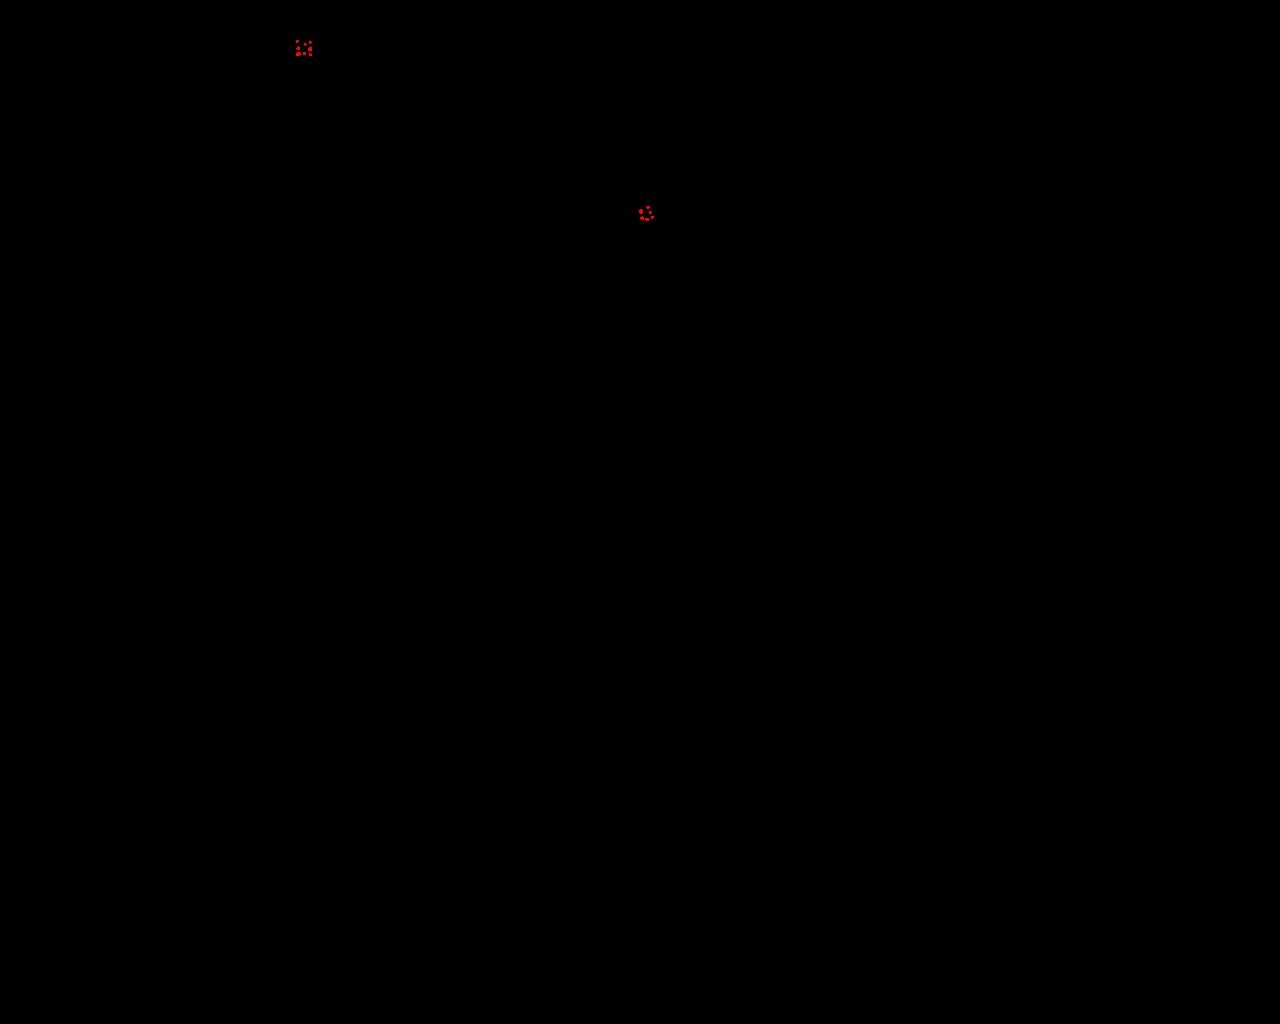Target: (296, 52, 301, 56), (296, 46, 300, 50), (308, 47, 312, 51), (639, 216, 644, 220), (639, 209, 643, 214), (646, 206, 650, 209), (645, 218, 649, 222), (296, 40, 299, 43), (309, 41, 312, 44), (304, 43, 307, 46), (303, 52, 306, 55), (309, 53, 312, 56), (649, 211, 652, 214), (651, 216, 654, 219)
